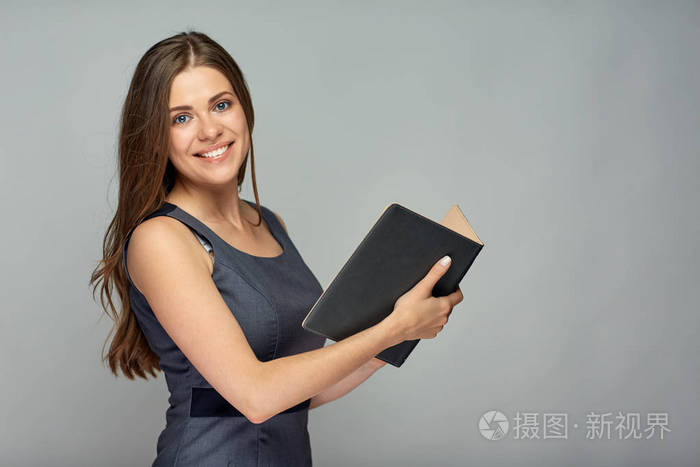no-phone: (364, 197, 487, 343)
